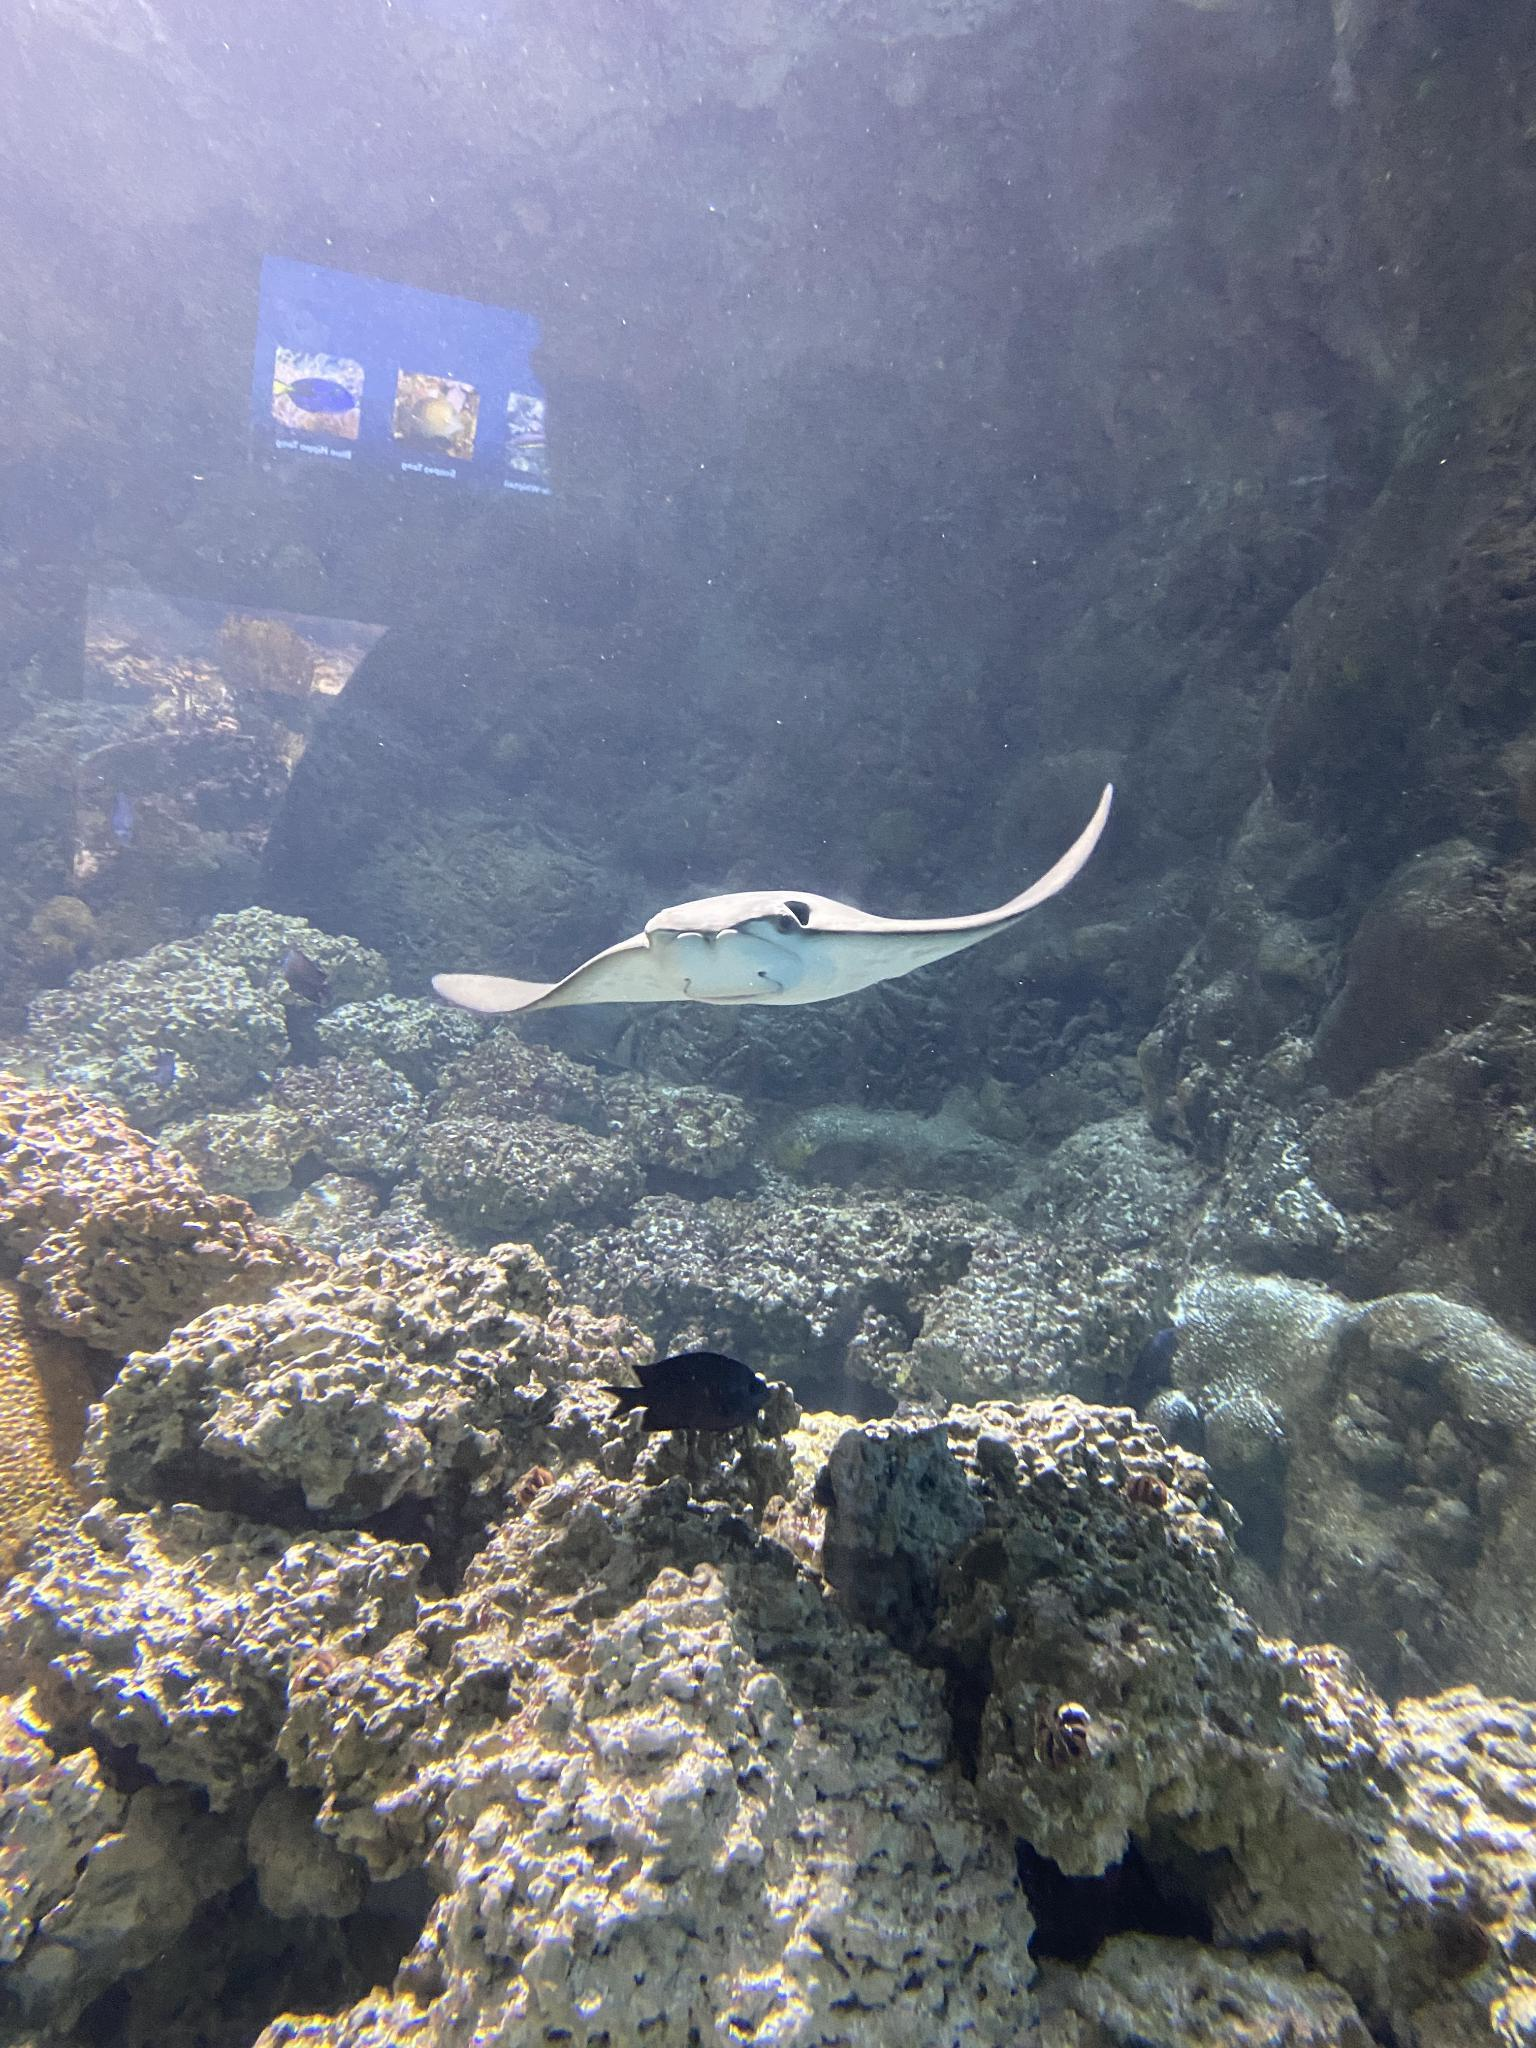fish: (594, 1348, 776, 1445)
stingray: (432, 780, 1115, 1018)
